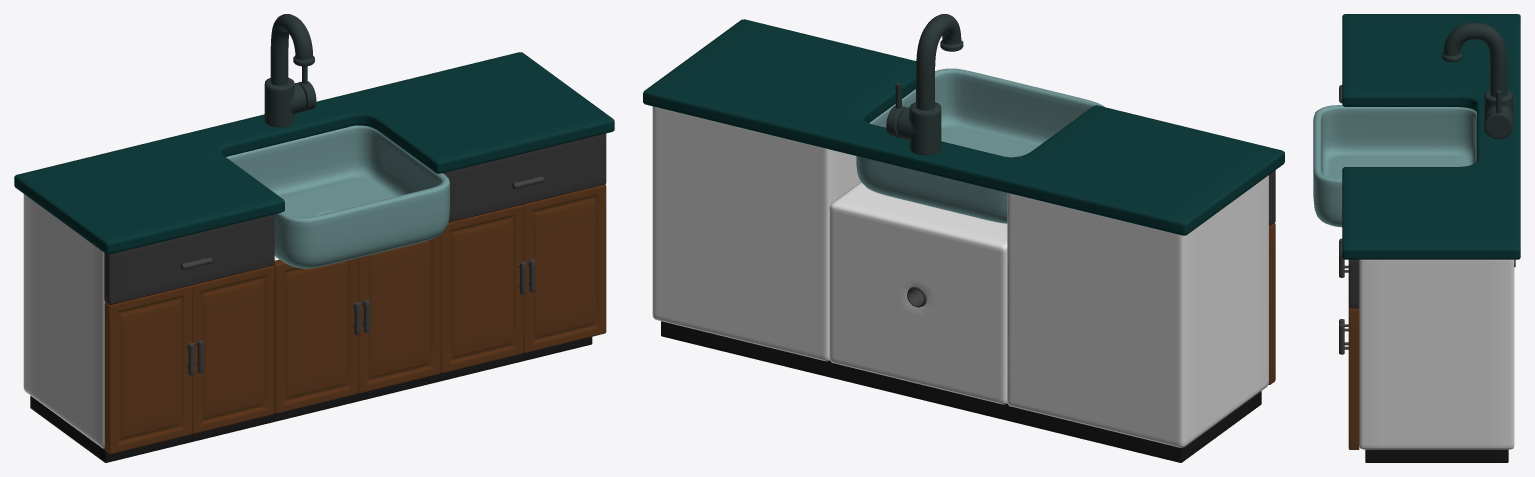
File: Kitchen Sink.fbx
3 renders of one model, left to right at view 1: azimuth 30°, elevation 25°; view 2: azimuth 150°, elevation 25°; view 3: azimuth 270°, elevation 25°, orthographic. The views are drawn at different scales.
Parts seen in each view (by area): view 1: counter_top, sink, cabinet_1, door_1, door_1_3, door_2_3, door_2, door_1_2, door_2_2, drawer, drawer_2, base_2 (+2 smaller); view 2: cabinet_1, counter_top, cabinet_3, cabinet_2, sink, base_2, faucet, base, door_1; view 3: counter_top, cabinet_3, sink, faucet, base_2, door_2_3, knob, drawer_2, base.
Part boxes in pixels (left/top/right/bottom): counter_top: left=14, top=52, right=614, bottom=254; sink: left=226, top=125, right=449, bottom=268; cabinet_1: left=23, top=194, right=105, bottom=448; door_1: left=104, top=285, right=191, bottom=453; door_1_3: left=440, top=204, right=523, bottom=372; door_2_3: left=523, top=184, right=606, bottom=352; door_2: left=191, top=265, right=274, bottom=433; door_1_2: left=274, top=258, right=357, bottom=413; door_2_2: left=358, top=235, right=440, bottom=393; drawer: left=104, top=214, right=274, bottom=304; drawer_2: left=443, top=133, right=606, bottom=222; base_2: left=30, top=337, right=592, bottom=462; cabinet_1: left=1007, top=175, right=1268, bottom=447; counter_top: left=643, top=19, right=1284, bottom=235; cabinet_3: left=652, top=106, right=860, bottom=361; cabinet_2: left=829, top=182, right=1007, bottom=404; sink: left=856, top=68, right=1104, bottom=223; base_2: left=661, top=321, right=1261, bottom=462; faucet: left=916, top=14, right=963, bottom=110; base: left=896, top=102, right=941, bottom=155; door_1: left=1268, top=223, right=1275, bottom=384; counter_top: left=1342, top=14, right=1520, bottom=259; cabinet_3: left=1359, top=259, right=1514, bottom=449; sink: left=1313, top=105, right=1476, bottom=227; faucet: left=1441, top=22, right=1507, bottom=97; base_2: left=1365, top=449, right=1508, bottom=462; door_2_3: left=1348, top=307, right=1359, bottom=449; knob: left=1484, top=111, right=1512, bottom=139; drawer_2: left=1348, top=259, right=1359, bottom=308; base: left=1484, top=90, right=1513, bottom=134.
Size of the model in its own units: 11.04 by 7.16 by 4.11.
